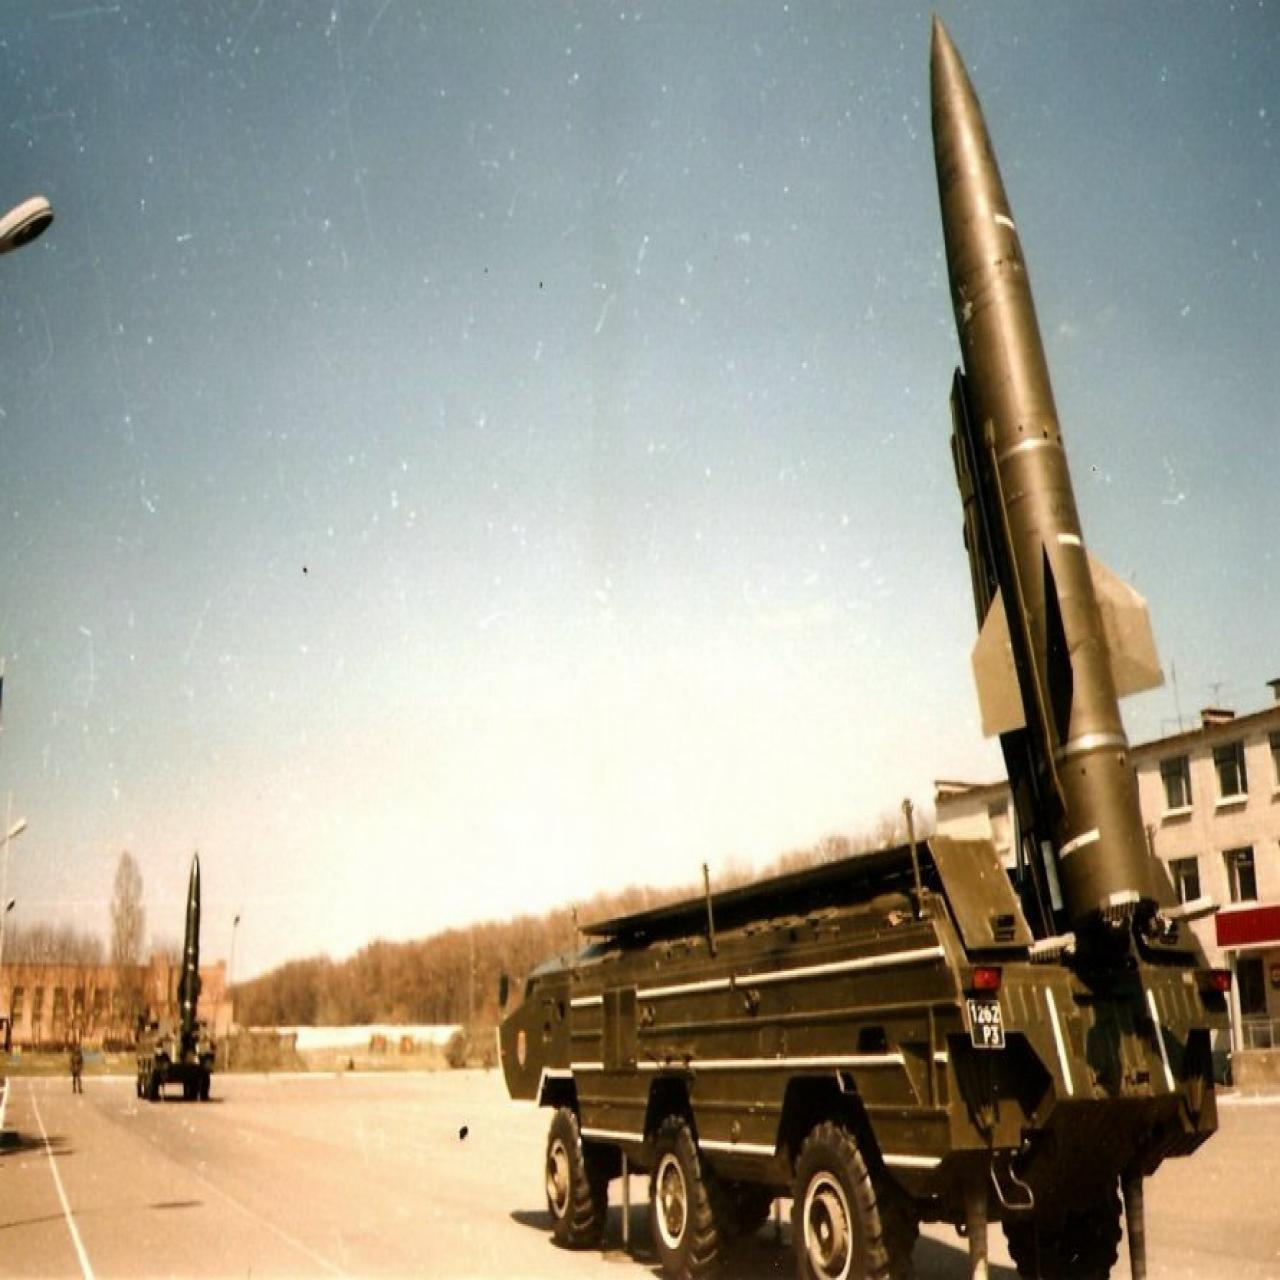MIL_Veh: (493, 16, 1216, 1280), (132, 850, 222, 1110)
